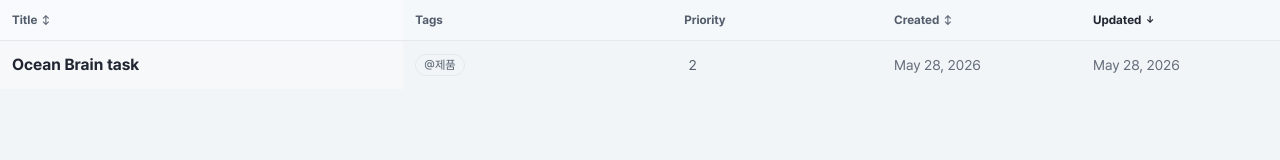
Test: editing table properties › clears only the selected property
Click the button named "Edit Priority for Ocean Brain task": click(777, 65) x1=684 y1=53 x2=870 y2=77
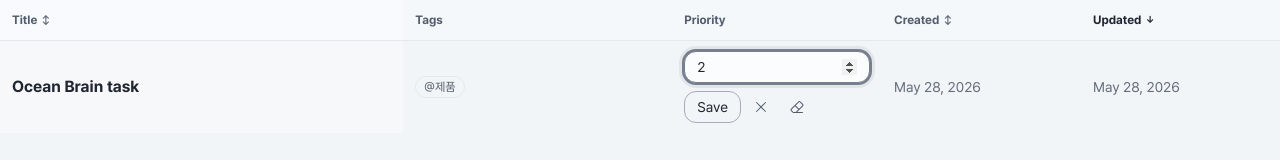
Click the button named "Clear Priority": click(797, 107) x1=781 y1=91 x2=813 y2=123
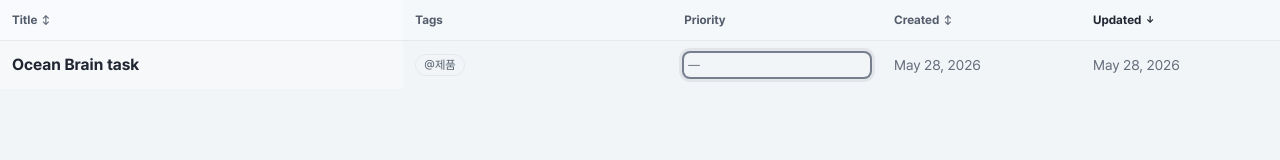
Expected: the button named "Edit Priority for Ocean Brain task" reads "—", x1=684 y1=53 x2=870 y2=77
